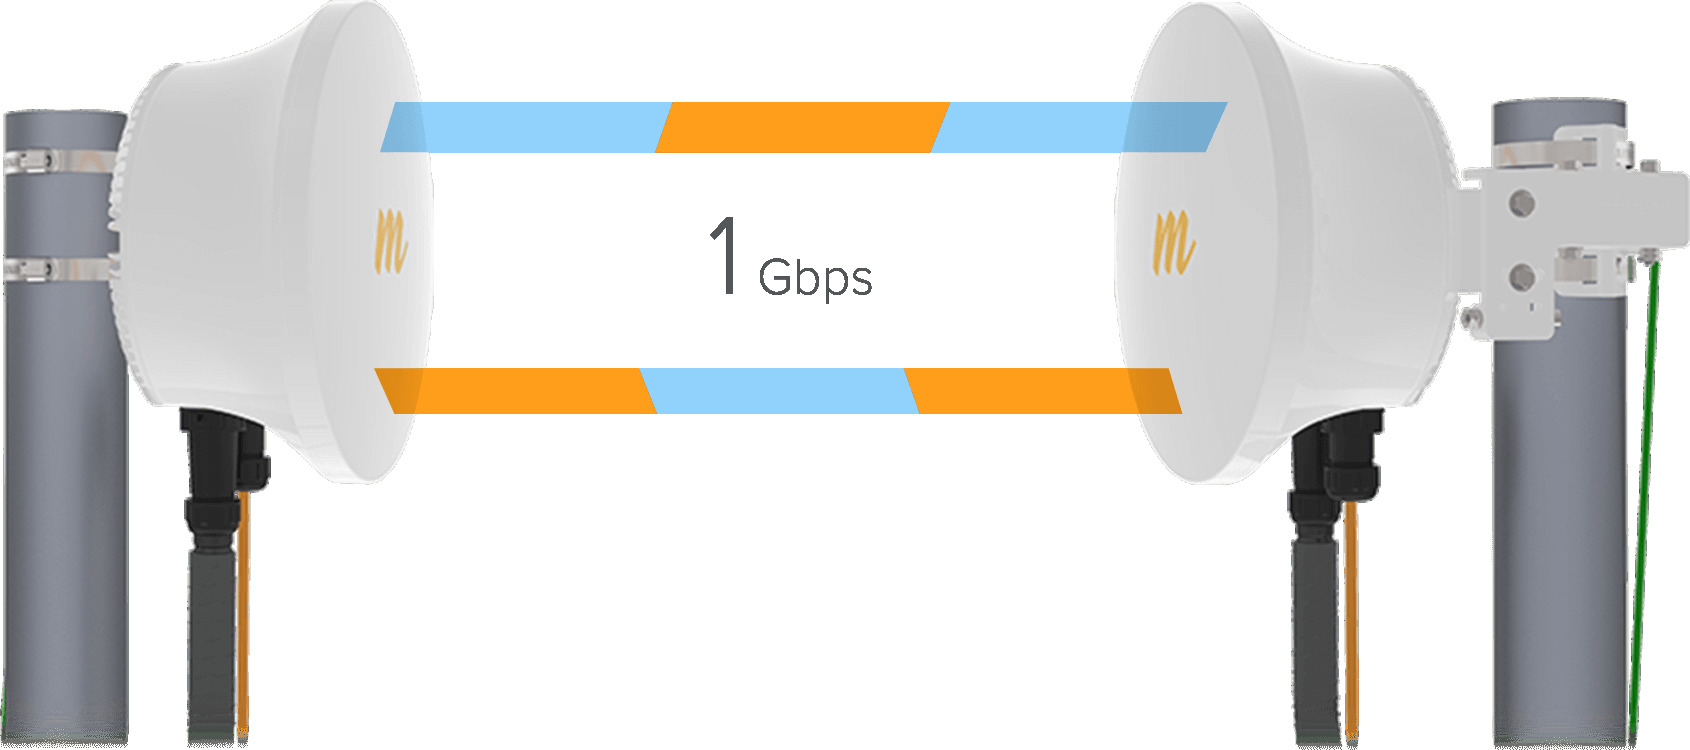ba: (1081, 1, 1456, 554), (112, 28, 444, 506)
